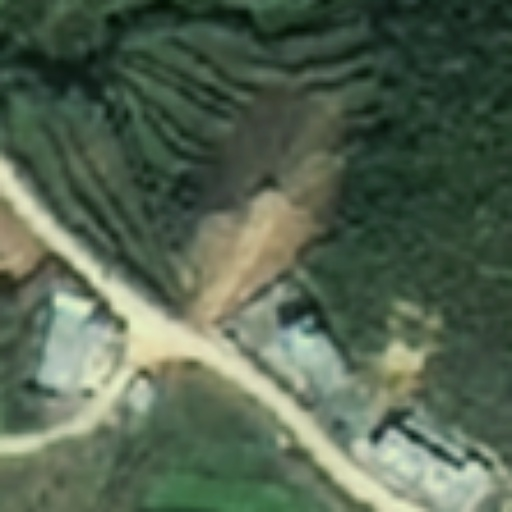landslide: (199, 188, 326, 314), (382, 298, 426, 378)
